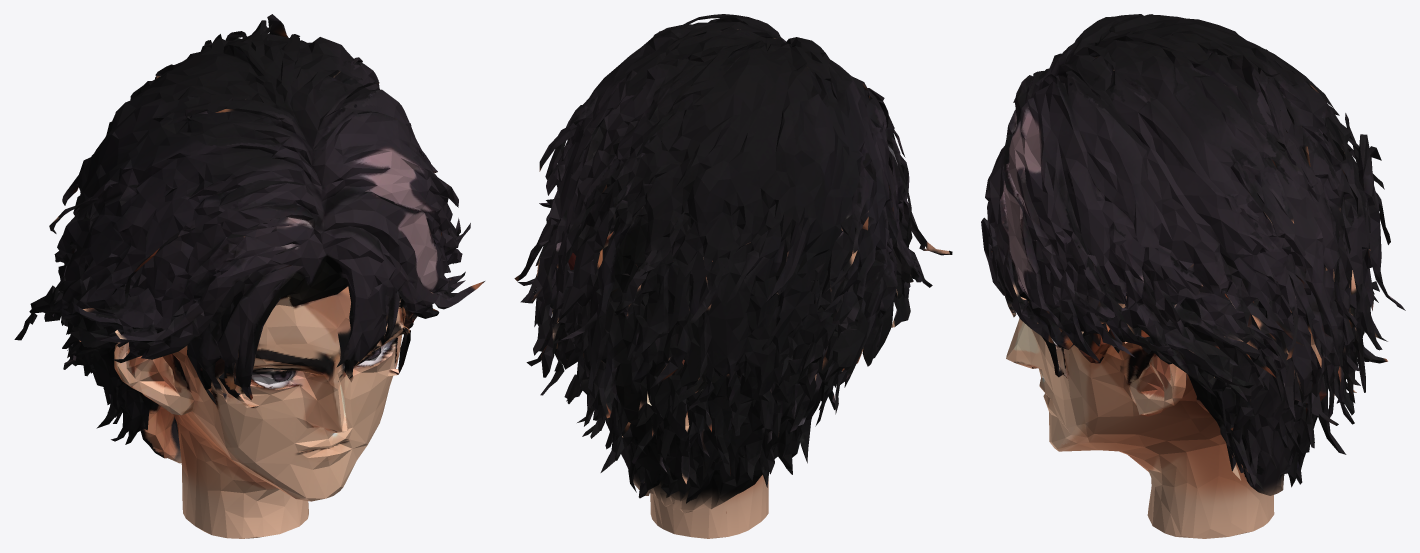
Rendered from side_iuchisoldier_repaired_atlas.glb.
3 views of the same model, side by side, from view 1: azimuth 30°, elevation 25°; view 2: azimuth 150°, elevation 25°; view 3: azimuth 270°, elevation 25° (orthographic). The views are drawn at different scales.
Parts seen in each view (by area): view 1: temp_mesh.ply; view 2: temp_mesh.ply; view 3: temp_mesh.ply.
Part boxes in pixels (x1,y1,x2,y2): temp_mesh.ply: [14, 14, 484, 538]; temp_mesh.ply: [514, 14, 952, 538]; temp_mesh.ply: [981, 14, 1405, 538].
Size of the model in its own units: 1.68 by 1.97 by 1.57.
Materials: 1 (1 with a texture image).
